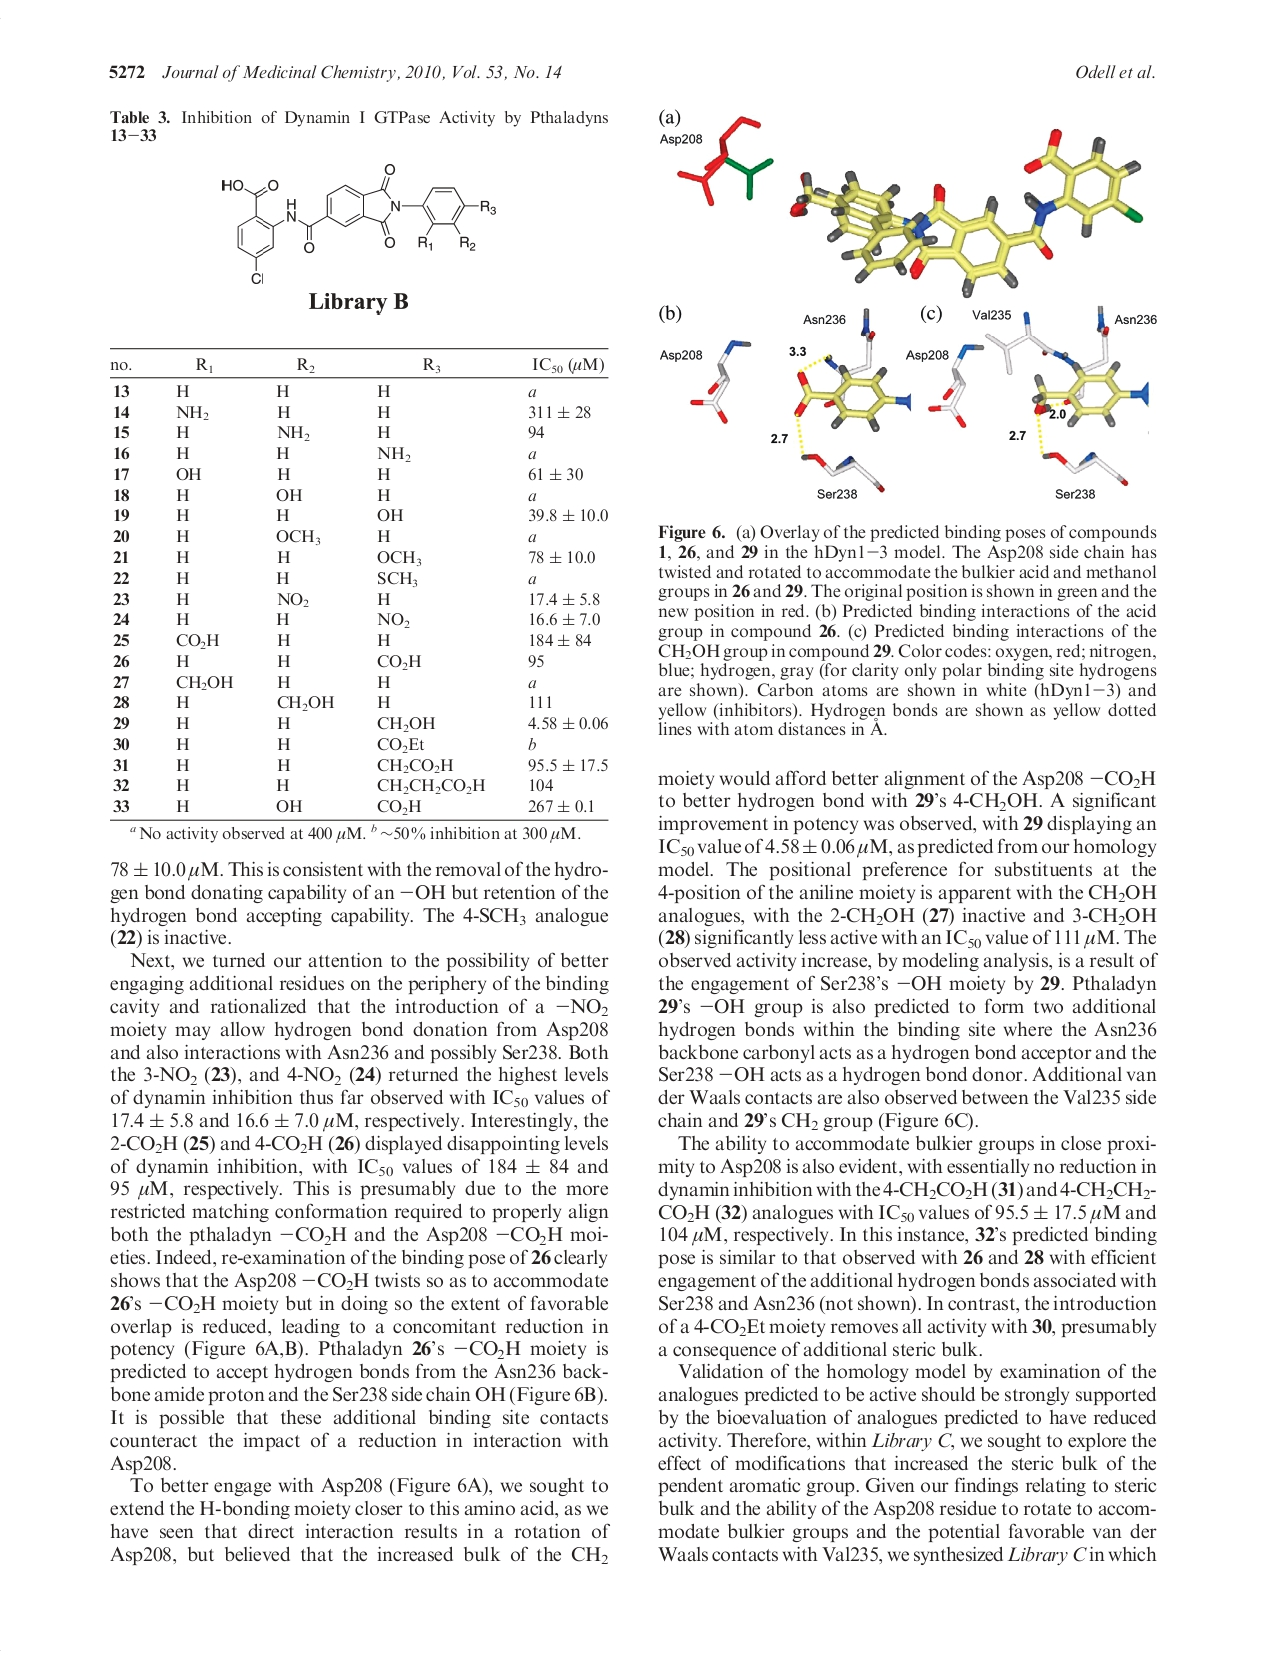exist_molecular: (218, 164, 497, 287)
